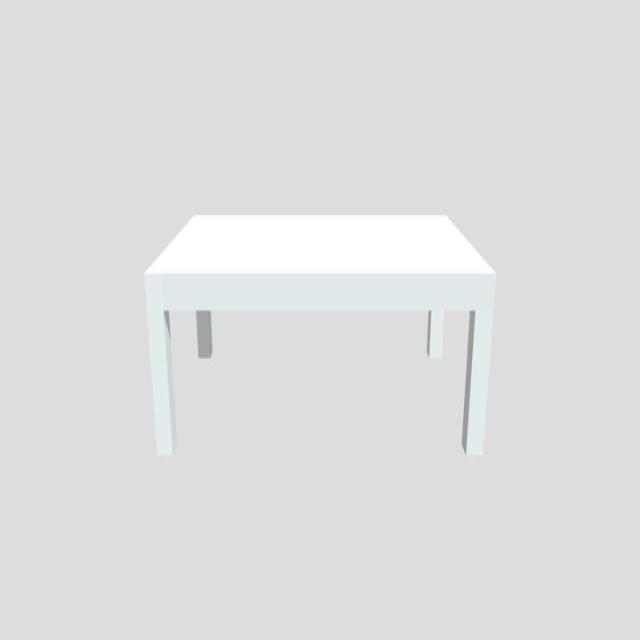table: (142, 215, 496, 458)
